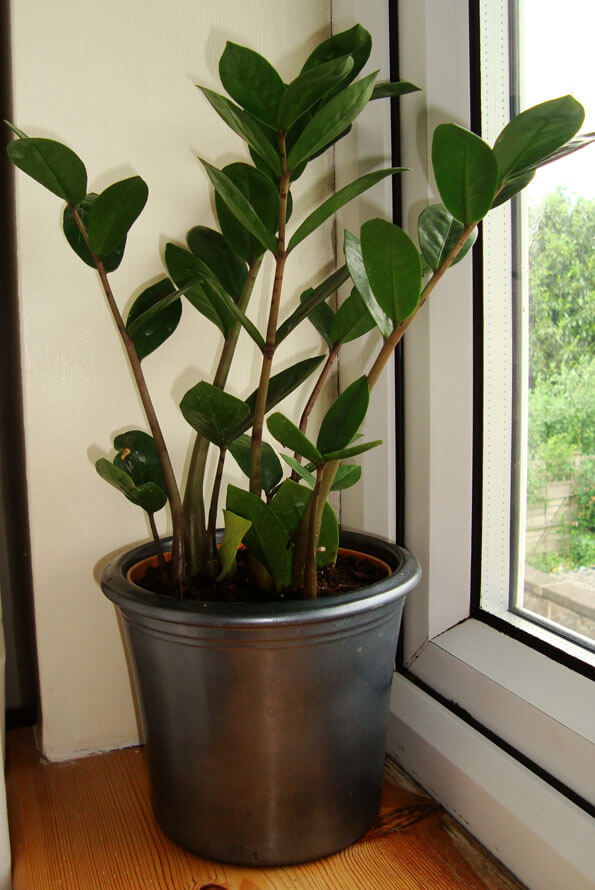plants: (10, 36, 595, 571)
